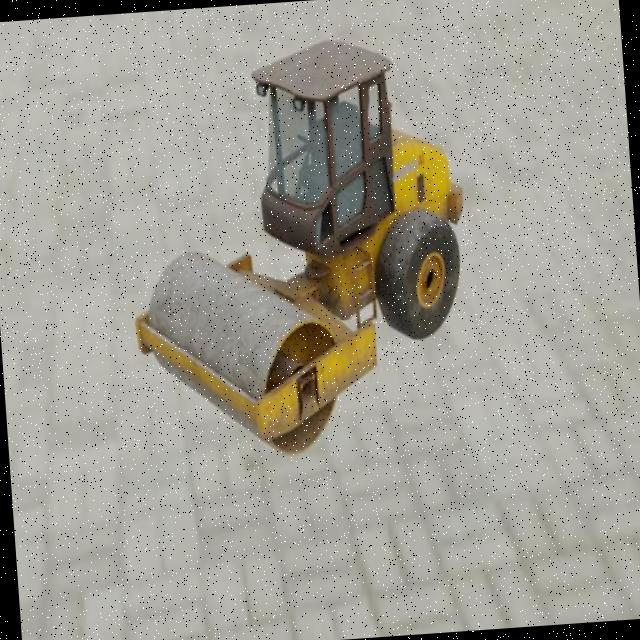Roller: (115, 30, 480, 466)
